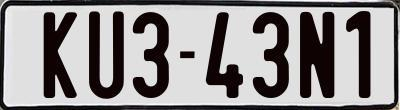1: (344, 9, 371, 98)
3: (253, 9, 294, 99), (131, 9, 172, 96)
4: (203, 10, 246, 97)
K: (42, 10, 75, 100)
N: (299, 11, 337, 100)
U: (88, 9, 126, 100)
